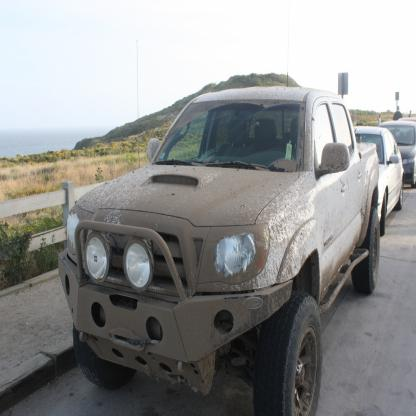Car: (353, 126, 404, 236), (380, 120, 415, 190)
Truck: (56, 8, 380, 415)
